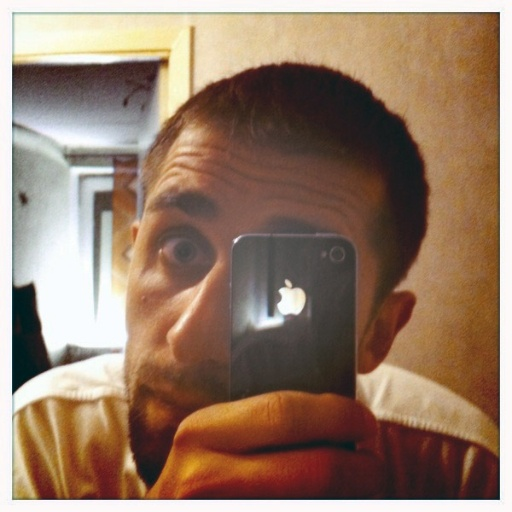hand: (141, 364, 418, 471)
